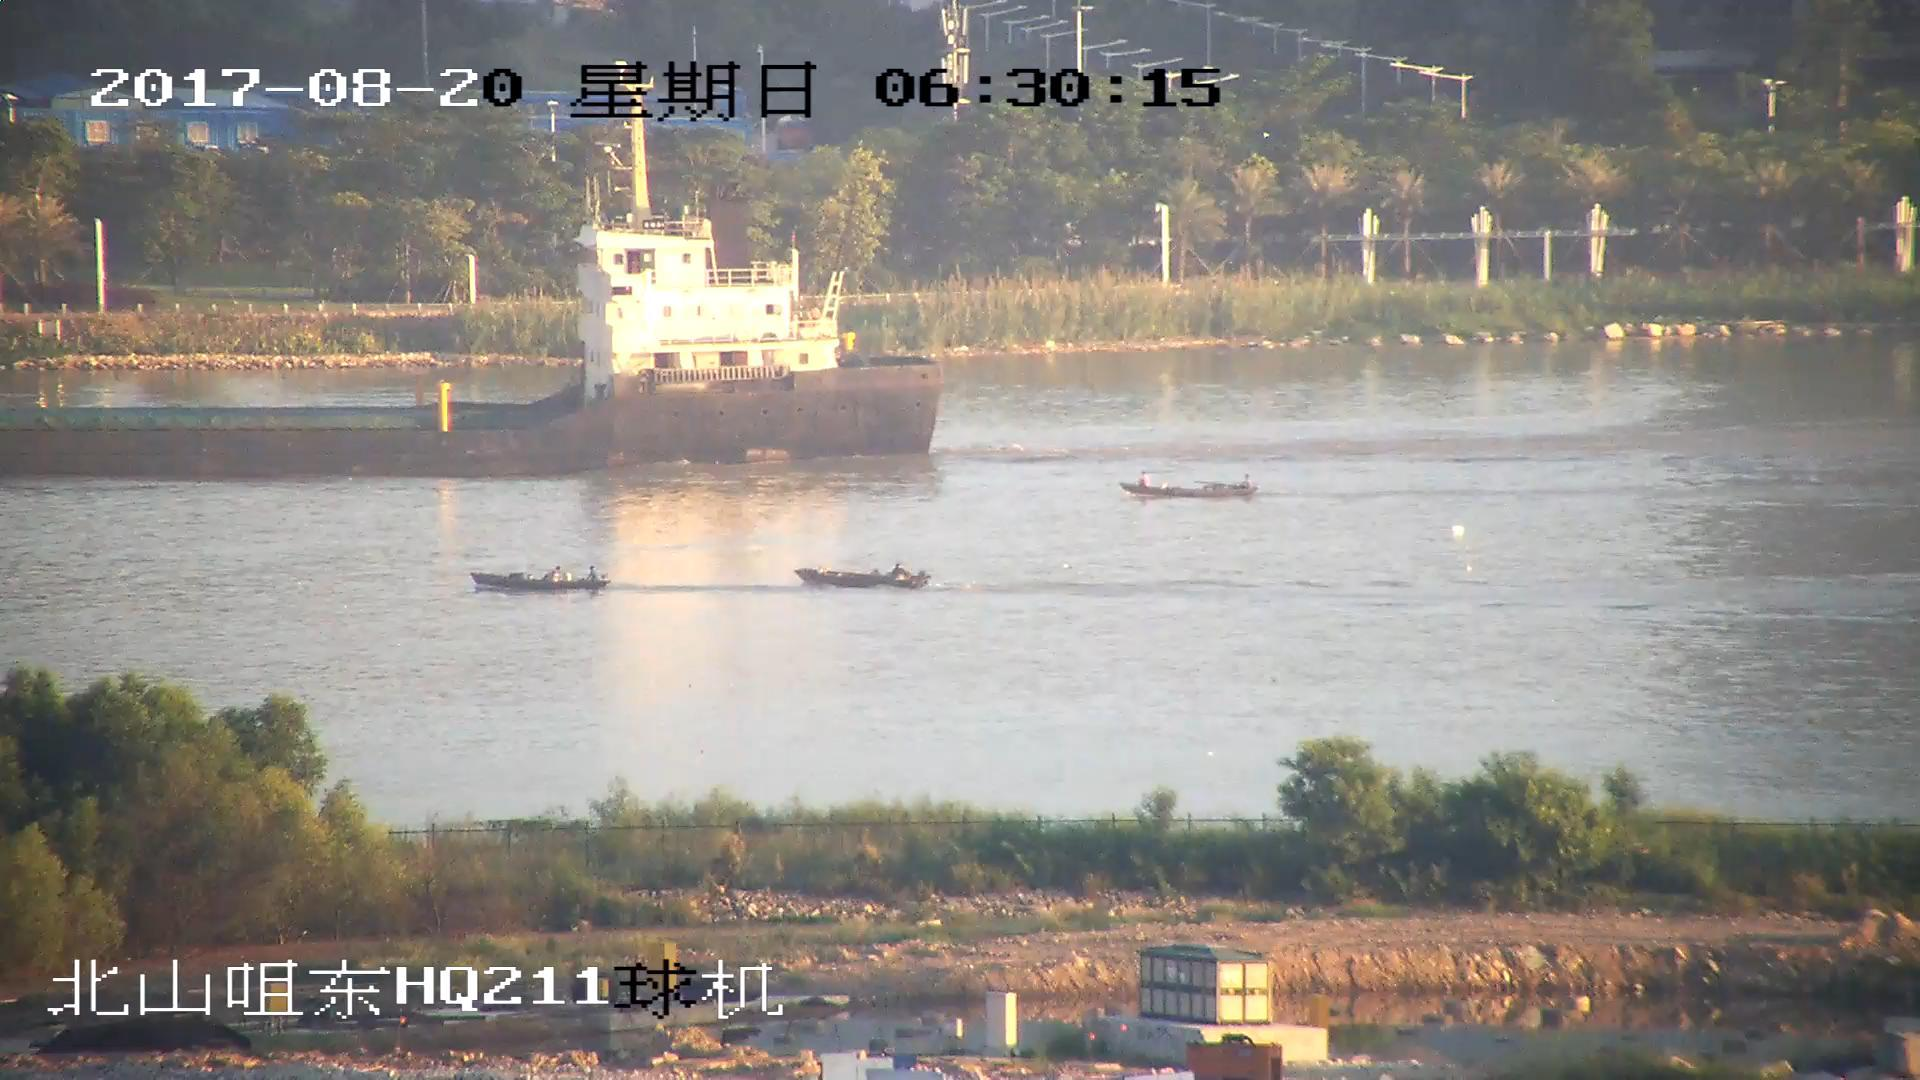Ship: (3, 125, 945, 475), (473, 560, 611, 597), (1124, 473, 1261, 505), (796, 563, 924, 593)
